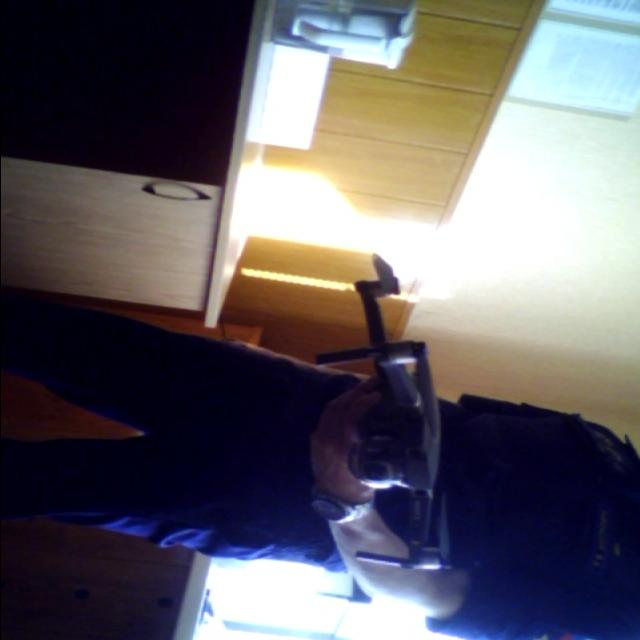drone: (330, 252, 458, 597)
